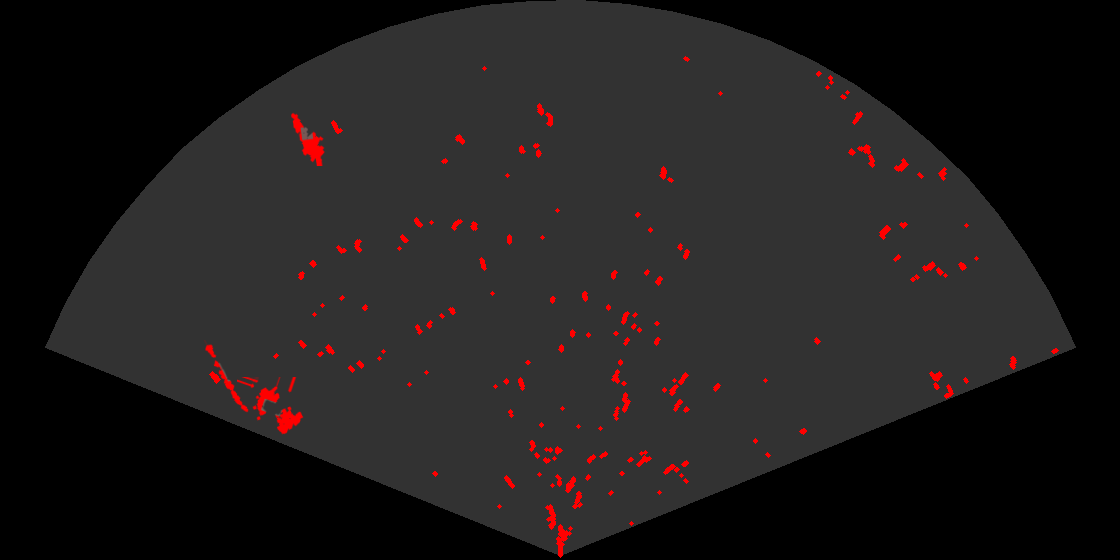cage: (237, 377, 305, 436)
chain: (202, 340, 250, 414)
frogman: (289, 111, 326, 166)
